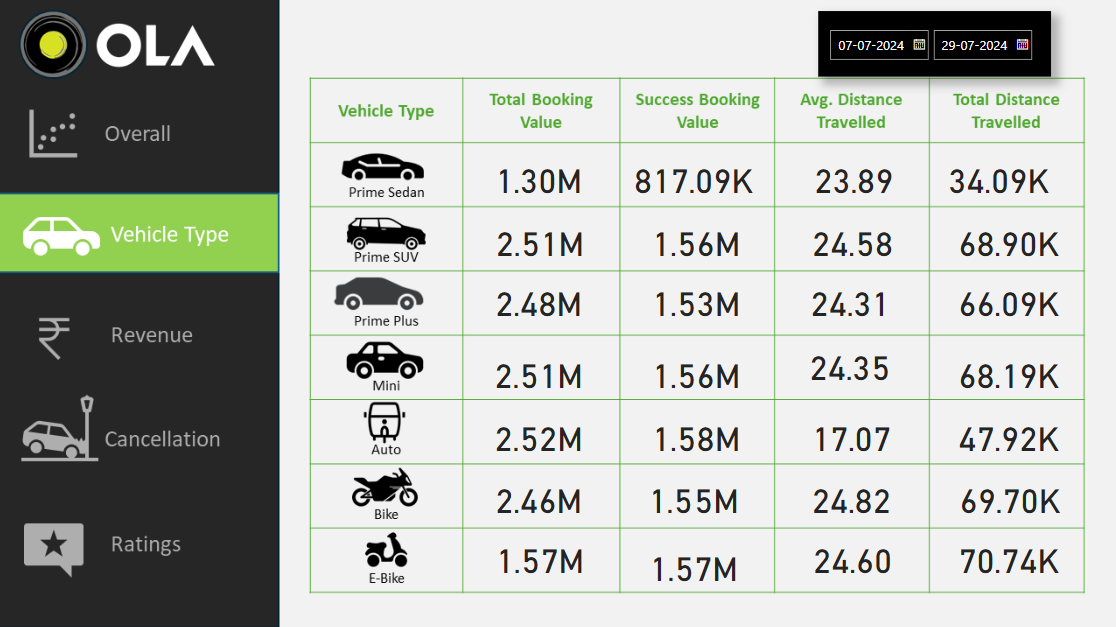

The dashboard page shown, as its layout file describes it:
{"tool":"powerbi","page":{"name":"Vehicle Type","canvas":[1280,720],"ordinal":1},"visuals":[{"type":"actionButton","box":[0,108.6,323.3,86.9],"z":0},{"type":"actionButton","box":[0,345,323.3,86.9],"z":1000},{"type":"actionButton","box":[0,454.8,323.3,86.9],"z":2000},{"type":"actionButton","box":[0,580.3,323.3,86.9],"z":3000},{"type":"actionButton","box":[10,590.3,323.3,86.9],"z":4000},{"type":"card","fields":{"Values":["Sum(July.Booking_Value)"]},"box":[547.5,174.3,146.8,57.6],"z":5000},{"type":"card","fields":{"Values":["Sum(July.Booking_Value)"]},"box":[548.9,247,146.8,57.6],"z":6000},{"type":"card","fields":{"Values":["Sum(July.Booking_Value)"]},"box":[547.5,315.6,146.8,57.6],"z":7000},{"type":"card","fields":{"Values":["Sum(July.Booking_Value)"]},"box":[547.5,469.3,146.8,57.6],"z":8000},{"type":"card","fields":{"Values":["Sum(July.Booking_Value)"]},"box":[547.5,396.6,146.8,57.6],"z":9000},{"type":"card","fields":{"Values":["Sum(July.Booking_Value)"]},"box":[547.5,540.7,146.8,57.6],"z":10000},{"type":"card","fields":{"Values":["Sum(July.Booking_Value)"]},"box":[548.9,609.3,146.8,57.6],"z":11000},{"type":"card","fields":{"Values":["Sum(July.Booking_Value)"]},"box":[724.5,174.3,146.8,57.6],"z":12000},{"type":"card","fields":{"Values":["Sum(July.Booking_Value)"]},"box":[727.3,315.6,146.8,57.6],"z":13000},{"type":"card","fields":{"Values":["Sum(July.Booking_Value)"]},"box":[727.3,396.6,146.8,57.6],"z":14000},{"type":"card","fields":{"Values":["Sum(July.Booking_Value)"]},"box":[727.3,469.3,146.8,57.6],"z":15000},{"type":"card","fields":{"Values":["Sum(July.Booking_Value)"]},"box":[724.5,540.7,146.8,57.6],"z":16000},{"type":"card","fields":{"Values":["Sum(July.Booking_Value)"]},"box":[724.5,618.9,146.8,57.6],"z":17000},{"type":"card","fields":{"Values":["Sum(July.Booking_Value)"]},"box":[727.3,247,146.8,57.6],"z":18000},{"type":"card","fields":{"Values":["Avg(July.Ride_Distance)"]},"box":[907,174.3,146.8,57.6],"z":19000},{"type":"card","fields":{"Values":["Avg(July.Ride_Distance)"]},"box":[902.9,315.6,146.8,57.6],"z":20000},{"type":"card","fields":{"Values":["Avg(July.Ride_Distance)"]},"box":[902.9,388.3,146.8,57.6],"z":21000},{"type":"card","fields":{"Values":["Avg(July.Ride_Distance)"]},"box":[904.3,469.3,146.8,57.6],"z":22000},{"type":"card","fields":{"Values":["Avg(July.Ride_Distance)"]},"box":[904.3,540.7,146.8,57.6],"z":23000},{"type":"card","fields":{"Values":["Avg(July.Ride_Distance)"]},"box":[905.7,609.3,146.8,57.6],"z":24000},{"type":"card","fields":{"Values":["Avg(July.Ride_Distance)"]},"box":[905.7,247,146.8,57.6],"z":25000},{"type":"card","fields":{"Values":["Sum(July.Ride_Distance)"]},"box":[1073.1,174.3,146.8,57.6],"z":26000},{"type":"card","fields":{"Values":["Sum(July.Ride_Distance)"]},"box":[1084.1,315.6,146.8,57.6],"z":27000},{"type":"card","fields":{"Values":["Sum(July.Ride_Distance)"]},"box":[1084.1,396.6,146.8,57.6],"z":28000},{"type":"card","fields":{"Values":["Sum(July.Ride_Distance)"]},"box":[1084.1,469.3,146.8,57.6],"z":29000},{"type":"card","fields":{"Values":["Sum(July.Ride_Distance)"]},"box":[1085.4,540.7,146.8,57.6],"z":30000},{"type":"card","fields":{"Values":["Sum(July.Ride_Distance)"]},"box":[1084.1,609.3,146.8,57.6],"z":31000},{"type":"card","fields":{"Values":["Sum(July.Ride_Distance)"]},"box":[1084.1,247,146.8,57.6],"z":32000},{"type":"slicer","title":"Date","fields":{"Values":["July.Date"]},"box":[939.8,13.3,265.4,74.8],"z":33000}]}

Visuals, with their boxes on the page's 1280x720 design canvas (x1, y1, x2, y2). These are canvas units, not pixel positions in the 1116x627 screenshot, which may show the page scaled, cropped or inside an application window:
actionButton: (left=0, top=109, right=323, bottom=196)
actionButton: (left=0, top=345, right=323, bottom=432)
actionButton: (left=0, top=455, right=323, bottom=542)
actionButton: (left=0, top=580, right=323, bottom=667)
actionButton: (left=10, top=590, right=333, bottom=677)
card - Sum(July.Booking_Value): (left=548, top=174, right=694, bottom=232)
card - Sum(July.Booking_Value): (left=549, top=247, right=696, bottom=305)
card - Sum(July.Booking_Value): (left=548, top=316, right=694, bottom=373)
card - Sum(July.Booking_Value): (left=548, top=469, right=694, bottom=527)
card - Sum(July.Booking_Value): (left=548, top=397, right=694, bottom=454)
card - Sum(July.Booking_Value): (left=548, top=541, right=694, bottom=598)
card - Sum(July.Booking_Value): (left=549, top=609, right=696, bottom=667)
card - Sum(July.Booking_Value): (left=724, top=174, right=871, bottom=232)
card - Sum(July.Booking_Value): (left=727, top=316, right=874, bottom=373)
card - Sum(July.Booking_Value): (left=727, top=397, right=874, bottom=454)
card - Sum(July.Booking_Value): (left=727, top=469, right=874, bottom=527)
card - Sum(July.Booking_Value): (left=724, top=541, right=871, bottom=598)
card - Sum(July.Booking_Value): (left=724, top=619, right=871, bottom=676)
card - Sum(July.Booking_Value): (left=727, top=247, right=874, bottom=305)
card - Avg(July.Ride_Distance): (left=907, top=174, right=1054, bottom=232)
card - Avg(July.Ride_Distance): (left=903, top=316, right=1050, bottom=373)
card - Avg(July.Ride_Distance): (left=903, top=388, right=1050, bottom=446)
card - Avg(July.Ride_Distance): (left=904, top=469, right=1051, bottom=527)
card - Avg(July.Ride_Distance): (left=904, top=541, right=1051, bottom=598)
card - Avg(July.Ride_Distance): (left=906, top=609, right=1052, bottom=667)
card - Avg(July.Ride_Distance): (left=906, top=247, right=1052, bottom=305)
card - Sum(July.Ride_Distance): (left=1073, top=174, right=1220, bottom=232)
card - Sum(July.Ride_Distance): (left=1084, top=316, right=1231, bottom=373)
card - Sum(July.Ride_Distance): (left=1084, top=397, right=1231, bottom=454)
card - Sum(July.Ride_Distance): (left=1084, top=469, right=1231, bottom=527)
card - Sum(July.Ride_Distance): (left=1085, top=541, right=1232, bottom=598)
card - Sum(July.Ride_Distance): (left=1084, top=609, right=1231, bottom=667)
card - Sum(July.Ride_Distance): (left=1084, top=247, right=1231, bottom=305)
"Date" slicer: (left=940, top=13, right=1205, bottom=88)
